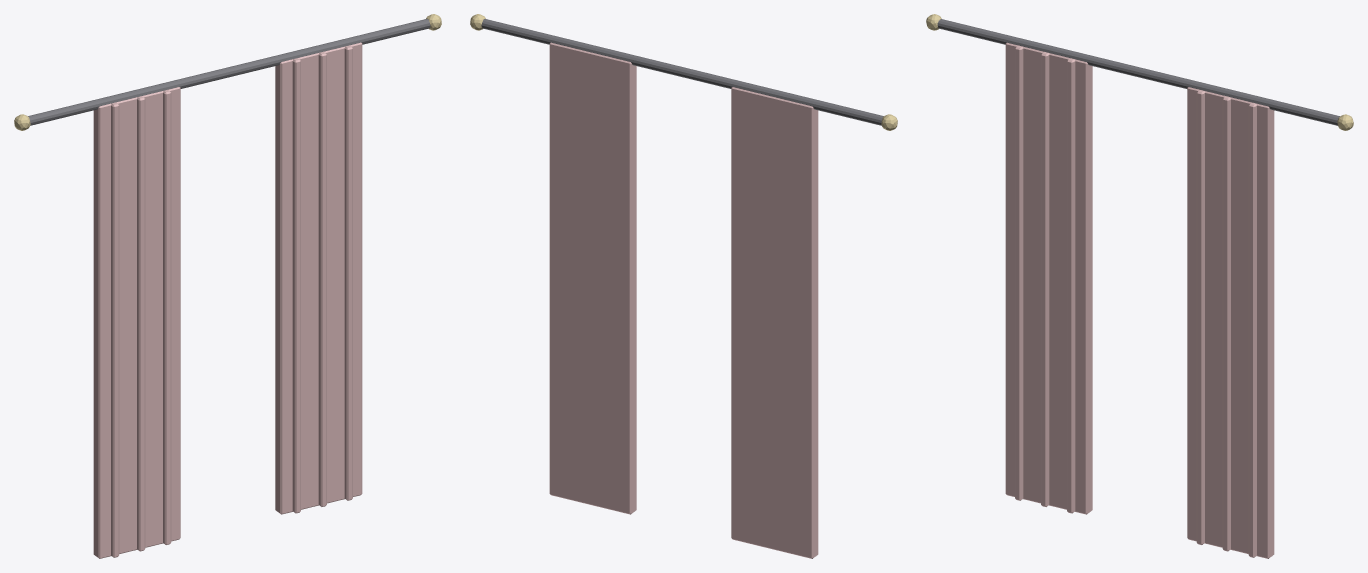
The model's file is SM_Curtains.fbx.
3 renders of one model, left to right at view 1: azimuth 30°, elevation 25°; view 2: azimuth 150°, elevation 25°; view 3: azimuth 330°, elevation 25°, orthographic.
Visible parts, largest first — view 1: Curtains; view 2: Curtains; view 3: Curtains.
Part boxes in pixels (x1=…): Curtains: x1=14, y1=14, x2=441, y2=558; Curtains: x1=470, y1=14, x2=897, y2=558; Curtains: x1=926, y1=14, x2=1353, y2=558.
Size of the model in its own units: 197 by 203 by 7.69.
